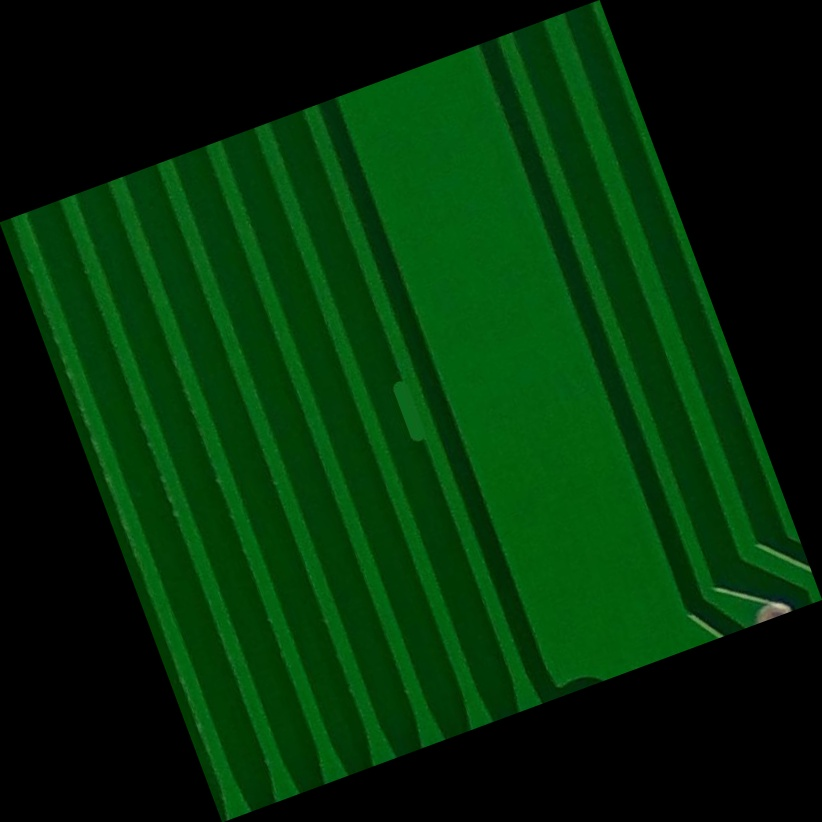spur: (370, 361, 452, 461)
